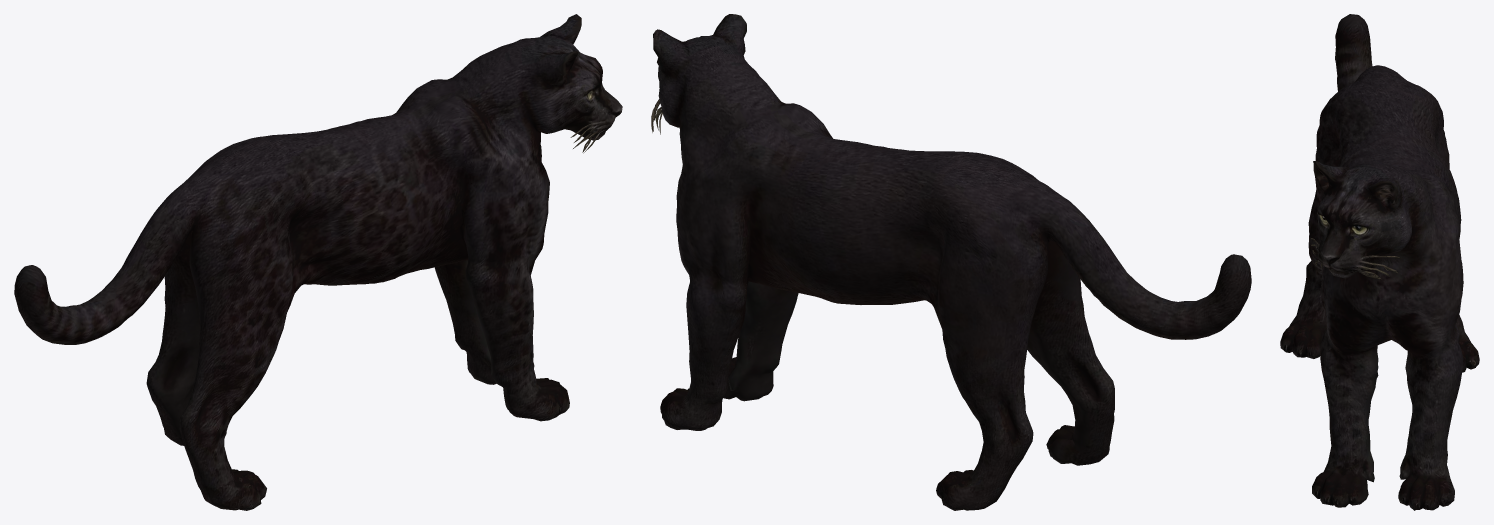
File: VELVETPAW.glb
3 renders of one model, left to right at view 1: azimuth 30°, elevation 25°; view 2: azimuth 150°, elevation 25°; view 3: azimuth 270°, elevation 25°, orthographic. The views are drawn at different scales.
Parts seen in each view (by area): view 1: tripo_node_418e056b-18c9-4086-b07d-9d9341229580; view 2: tripo_node_418e056b-18c9-4086-b07d-9d9341229580; view 3: tripo_node_418e056b-18c9-4086-b07d-9d9341229580.
Part boxes in pixels (bbox=[...]): tripo_node_418e056b-18c9-4086-b07d-9d9341229580: bbox=[14, 14, 622, 510]; tripo_node_418e056b-18c9-4086-b07d-9d9341229580: bbox=[651, 14, 1251, 510]; tripo_node_418e056b-18c9-4086-b07d-9d9341229580: bbox=[1280, 14, 1479, 510].
Bounding box in the file's own units: 1.7 × 1 × 0.521.
Materials: 1 (1 with a texture image).
